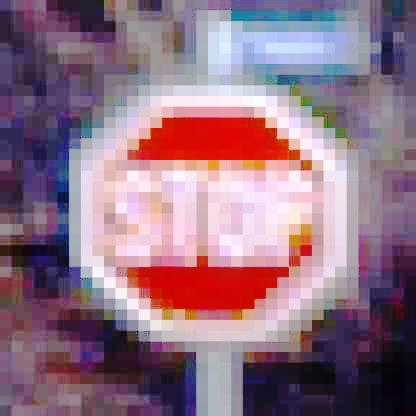Stop Sign: (76, 86, 362, 353)
